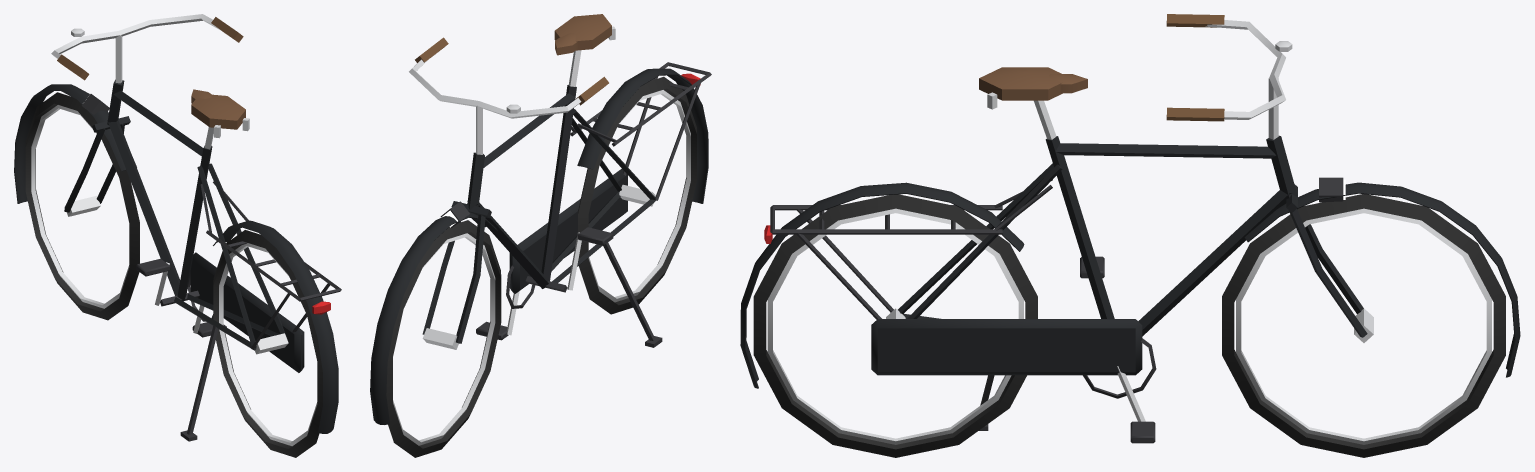
Rendered from bike_opa_parked.glb.
3 renders of one model, left to right at view 1: azimuth 30°, elevation 25°; view 2: azimuth 150°, elevation 25°; view 3: azimuth 270°, elevation 25°, orthographic. The views are drawn at different scales.
Parts seen in each view (by area): view 1: bike_parked; view 2: bike_parked; view 3: bike_parked.
Part boxes in pixels (box(x1,y1,x2,y2)): bike_parked: box(14, 14, 341, 457); bike_parked: box(370, 14, 711, 457); bike_parked: box(740, 14, 1520, 457).
Bounding box in the file's own units: 0.574 × 1.07 × 1.9.
